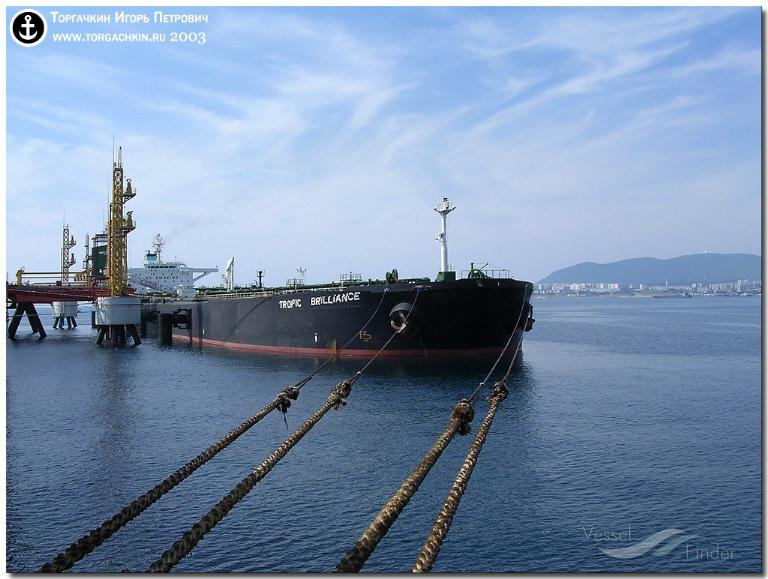OCR: (274, 291, 372, 318)
